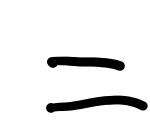eqv: (43, 53, 149, 113)
